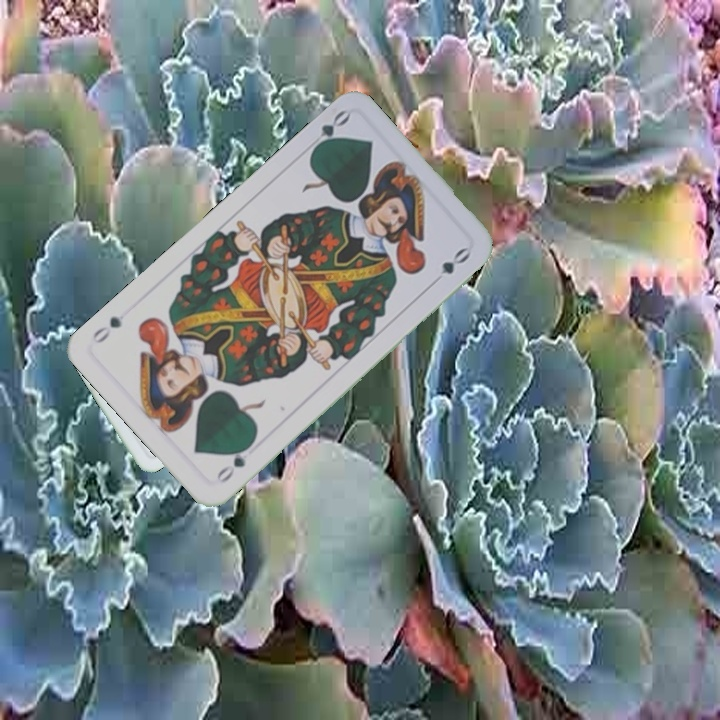GO: (302, 106, 352, 156), (211, 438, 256, 486)
